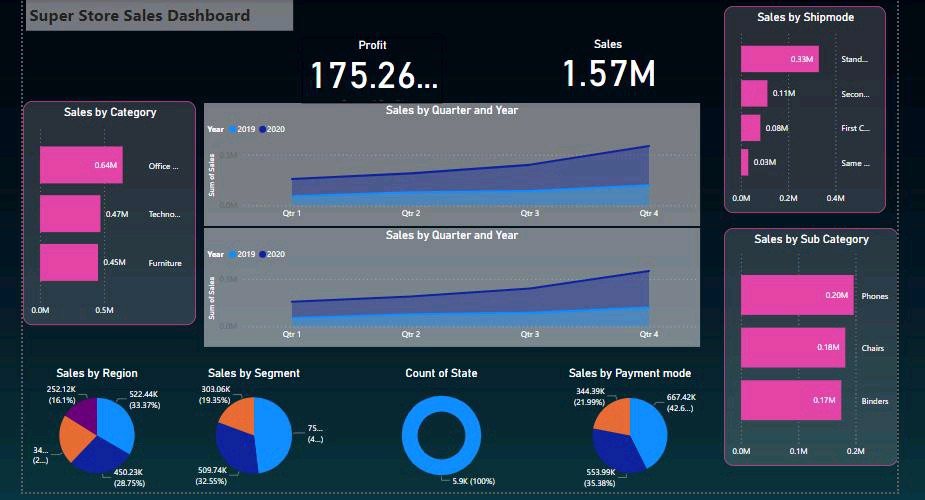

The dashboard page shown, as its layout file describes it:
{"tool":"powerbi","page":{"name":"Page 1","canvas":[1280,720],"ordinal":0},"visuals":[{"type":"barChart","title":"Sales by Category","fields":{"Category":["Sheet1.Category"],"Y":["Sum(Sheet1.Sales)"]},"box":[0,147.8,253.2,327.8],"z":0},{"type":"barChart","title":"Sales by Sub Category","fields":{"Category":["Sheet1.Sub-Category"],"Y":["Sum(Sheet1.Sales)"]},"box":[1025.9,333.7,254.6,348.3],"z":1000},{"type":"barChart","title":"Sales by Shipmode","fields":{"Category":["Sheet1.Ship Mode"],"Y":["Sum(Sheet1.Sales)"]},"box":[1025.9,8.8,237.1,302.9],"z":2000},{"type":"stackedAreaChart","title":" Sales by Quarter and Year","fields":{"Y":["Sum(Sheet1.Sales)"],"Category":["Sheet1.Order Date.Variation.Date Hierarchy.Quarter","Sheet1.Order Date.Variation.Date Hierarchy.Month","Sheet1.Order Date.Variation.Date Hierarchy.Day"],"Series":["Sheet1.Order Date.Variation.Date Hierarchy.Year"]},"box":[264.9,150.7,725.9,180],"z":3000},{"type":"stackedAreaChart","title":" Sales by Quarter and Year","fields":{"Y":["Sum(Sheet1.Sales)"],"Category":["Sheet1.Order Date.Variation.Date Hierarchy.Quarter","Sheet1.Order Date.Variation.Date Hierarchy.Month","Sheet1.Order Date.Variation.Date Hierarchy.Day"],"Series":["Sheet1.Order Date.Variation.Date Hierarchy.Year"]},"box":[264.9,333.7,725.9,174.1],"z":4000},{"type":"donutChart","fields":{"Y":["CountNonNull(Sheet1.State)"]},"box":[482.9,535.6,259,184.4],"z":5000},{"type":"pieChart","title":"Sales by Segment","fields":{"Category":["Sheet1.Segment"],"Y":["Sum(Sheet1.Sales)"]},"box":[229.8,535.6,216.6,184.4],"z":6000},{"type":"pieChart","title":"Sales by Region","fields":{"Y":["Sum(Sheet1.Sales)"],"Category":["Sheet1.Region"]},"box":[4.4,535.6,207.8,184.4],"z":7000},{"type":"textbox","box":[4.4,0,390.7,45.4],"z":8000},{"type":"pieChart","title":"Sales by Payment mode","fields":{"Y":["Sum(Sheet1.Sales)"],"Category":["Sheet1.Payment Mode"]},"box":[785.9,535.6,204.9,184.4],"z":9000},{"type":"card","title":"Sales","fields":{"Values":["Sum(Sheet1.Sales)"]},"box":[753.7,54.1,204.9,93.7],"z":10000},{"type":"card","title":"Profit","fields":{"Values":["Sum(Sheet1.Profit)"]},"box":[408.3,54.1,204.9,96.6],"z":11000}]}

Visuals, with their boxes in screenshot pixels (x1, y1, x2, y2):
"Sales by Category" barChart: 19 99 193 324
"Sales by Sub Category" barChart: 723 227 898 466
"Sales by Shipmode" barChart: 723 4 886 212
" Sales by Quarter and Year" stackedAreaChart: 201 101 699 225
" Sales by Quarter and Year" stackedAreaChart: 201 227 699 346
donutChart - CountNonNull(Sheet1.State): 351 365 528 492
"Sales by Segment" pieChart: 177 365 326 492
"Sales by Region" pieChart: 22 365 165 492
textbox: 22 0 290 29
"Sales by Payment mode" pieChart: 559 365 699 492
"Sales" card: 537 35 677 99
"Profit" card: 299 35 440 101
